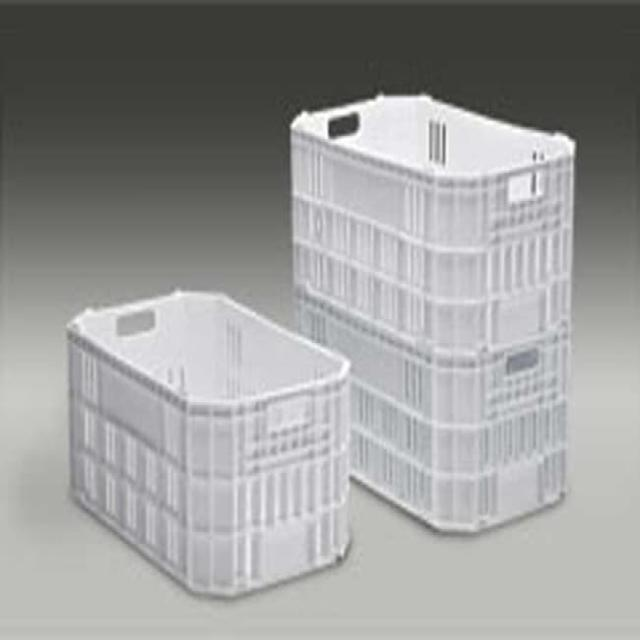basket: (281, 93, 577, 535), (66, 291, 351, 596)
